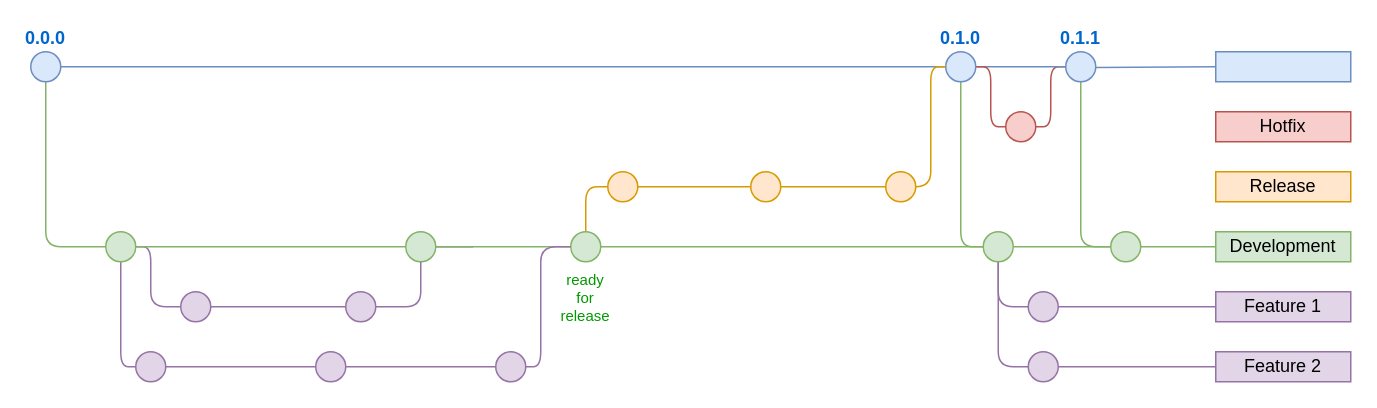
This 1377x408 diagram has some shape labels left out. Each missing label, with the centre of its shape:
hotfix 0.1.1: the point at 1020,126
Main: the point at 1282,66
release 0.1.0: the point at 900,186
